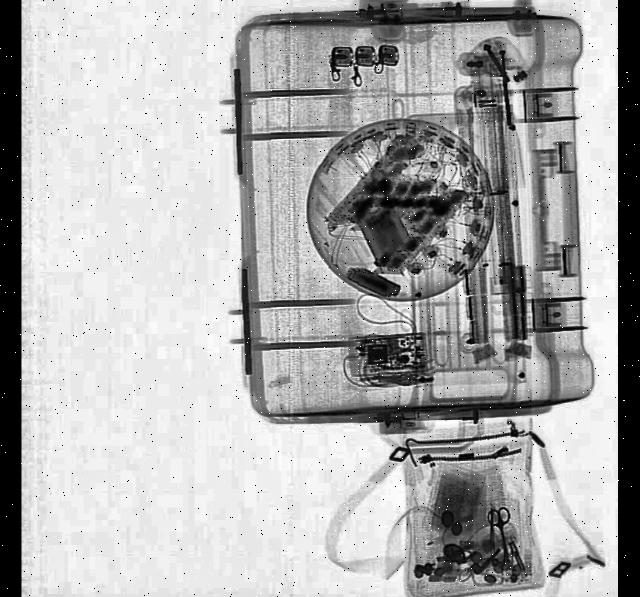Scissors: (486, 508, 518, 572)
